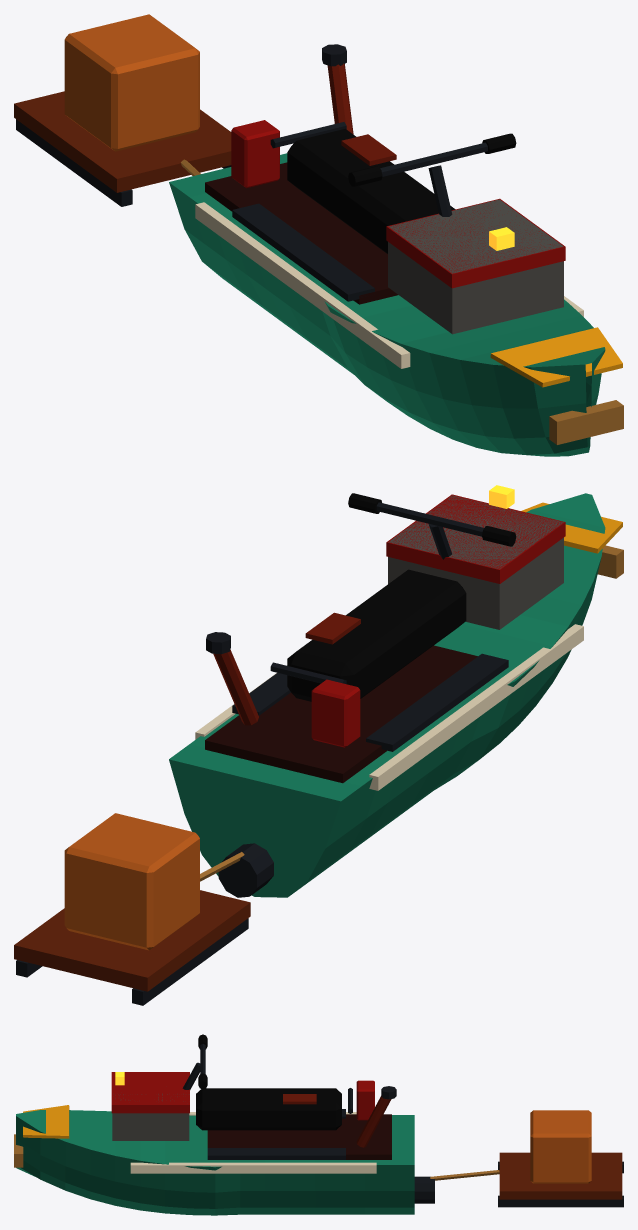
File: tb_waverunner.glb
3 renders of one model, top to bottom at view 1: azimuth 30°, elevation 25°; view 2: azimuth 150°, elevation 25°; view 3: azimuth 270°, elevation 25°, orthographic. The views are drawn at different scales.
Visible parts, largest first — view 1: tb_waverunner_mesh, waverunner_sled_mesh, waverunner_bars_mesh; view 2: tb_waverunner_mesh, waverunner_sled_mesh, waverunner_bars_mesh; view 3: tb_waverunner_mesh, waverunner_sled_mesh, waverunner_bars_mesh.
Boxes of the visible parts, box(x1,y1,x2,y2) form: tb_waverunner_mesh: box(169, 44, 623, 456); waverunner_sled_mesh: box(14, 14, 231, 206); waverunner_bars_mesh: box(348, 133, 516, 216); tb_waverunner_mesh: box(169, 485, 623, 897); waverunner_sled_mesh: box(14, 813, 250, 1005); waverunner_bars_mesh: box(348, 493, 516, 559); tb_waverunner_mesh: box(14, 1072, 434, 1215); waverunner_sled_mesh: box(430, 1110, 623, 1207); waverunner_bars_mesh: box(182, 1034, 207, 1089).
Bounding box in the file's own units: 0.84 × 1.09 × 3.97.
